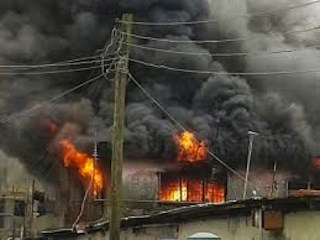fire: (65, 143, 107, 193), (163, 183, 223, 204), (177, 132, 207, 159)
smoke: (154, 13, 313, 72), (5, 42, 61, 188), (188, 77, 303, 131), (125, 96, 175, 167), (214, 133, 311, 165), (63, 89, 113, 142)
